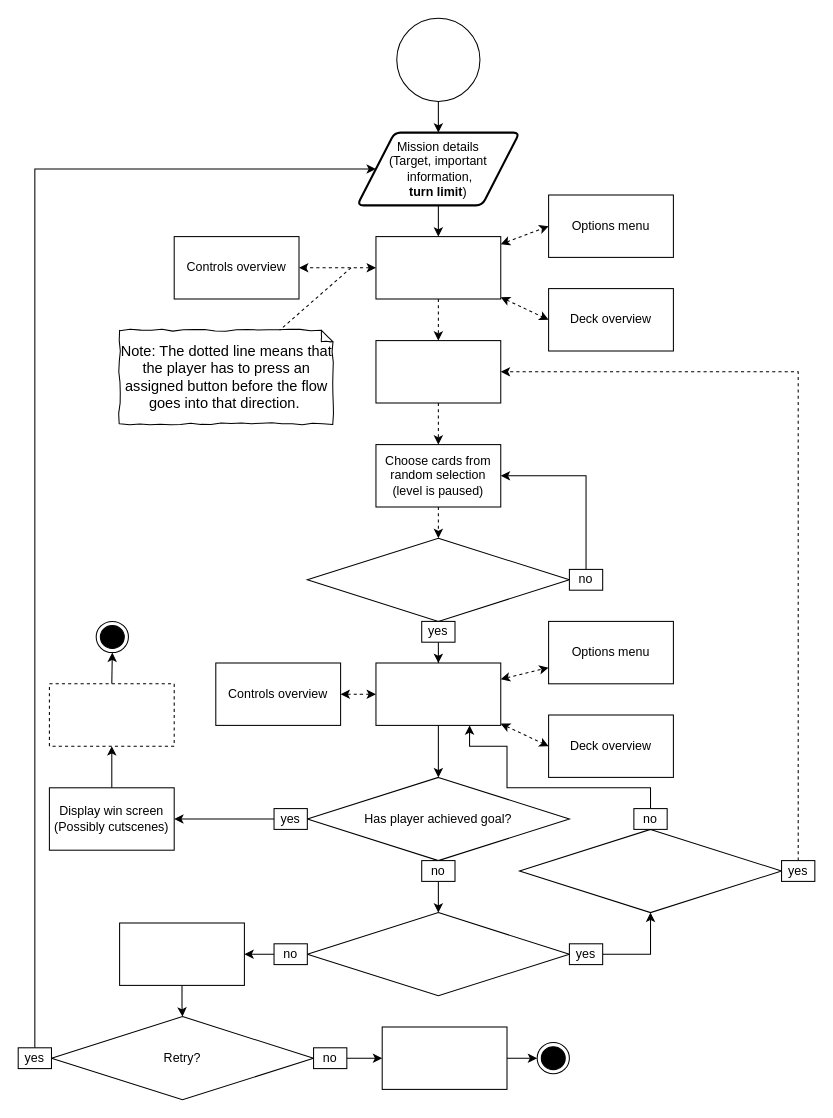
Image size: 833x1118. Some labels were removed from this diagram. The shapes that lost their labels are listed below. From the top down, each one's centre as x and y in pixels, then its label:
At [438,59]: "Start mission".
At [438,267]: "Controlling character".
At [438,371]: "Start new turn (Remaining turns -1)".
At [437,579]: "Has player chosen at least 1 card?".
At [438,693]: "Controlling character, use ability cards".
At [111,714]: "Return to base".
At [650,870]: "Has player used up all cards in hand?".
At [181,953]: "Display lose screen".
At [437,954]: "Are turns remaining?".
At [444,1057]: "Return to base (progress set back to prior level start)".
